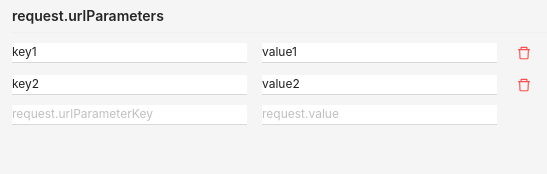
ParamsEditor › should add new row when focusing on last row
Focus the field with placeholder "request.urlParameterKey" at [130, 115], box [12,105,247,125]
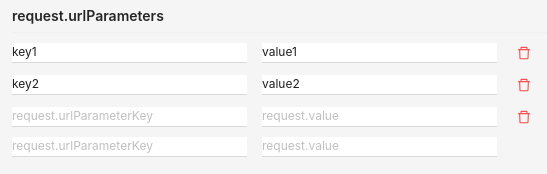
Expected: the number of fields with placeholder "request.urlParameterKey" is 4, [12,43,247,63]; [12,75,247,95]; [12,107,247,127]; [12,137,247,157]
